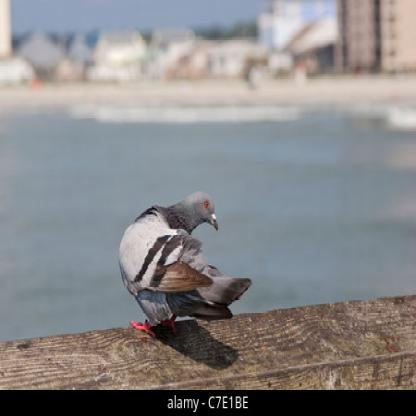Flying Rat: (111, 187, 252, 342)
